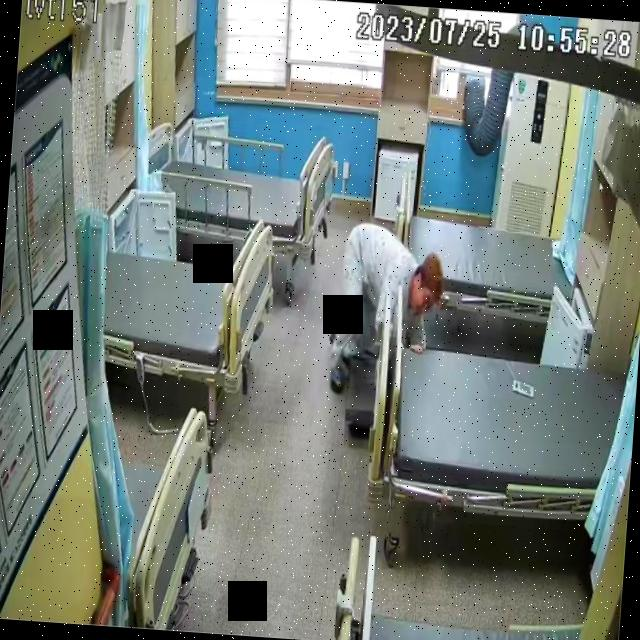bed: (384, 332, 630, 522), (97, 208, 281, 397), (140, 121, 334, 255), (390, 189, 578, 322)
danger: (326, 217, 446, 397)
patient: (326, 215, 446, 397)
